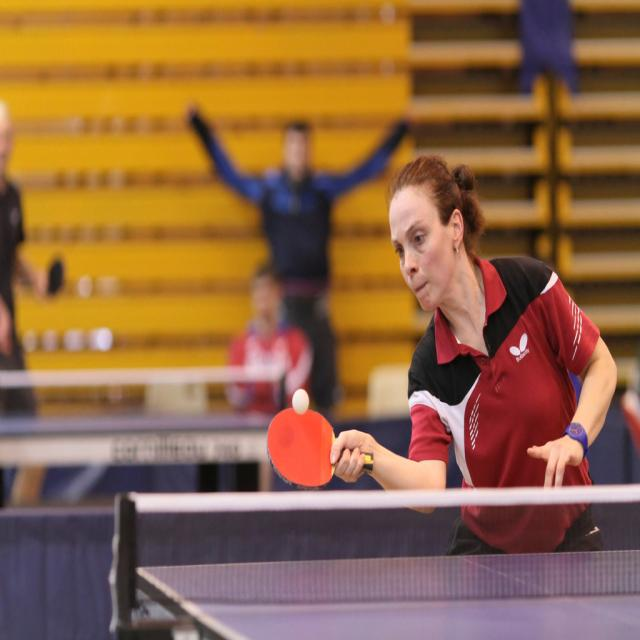Ball: (292, 389, 309, 414)
